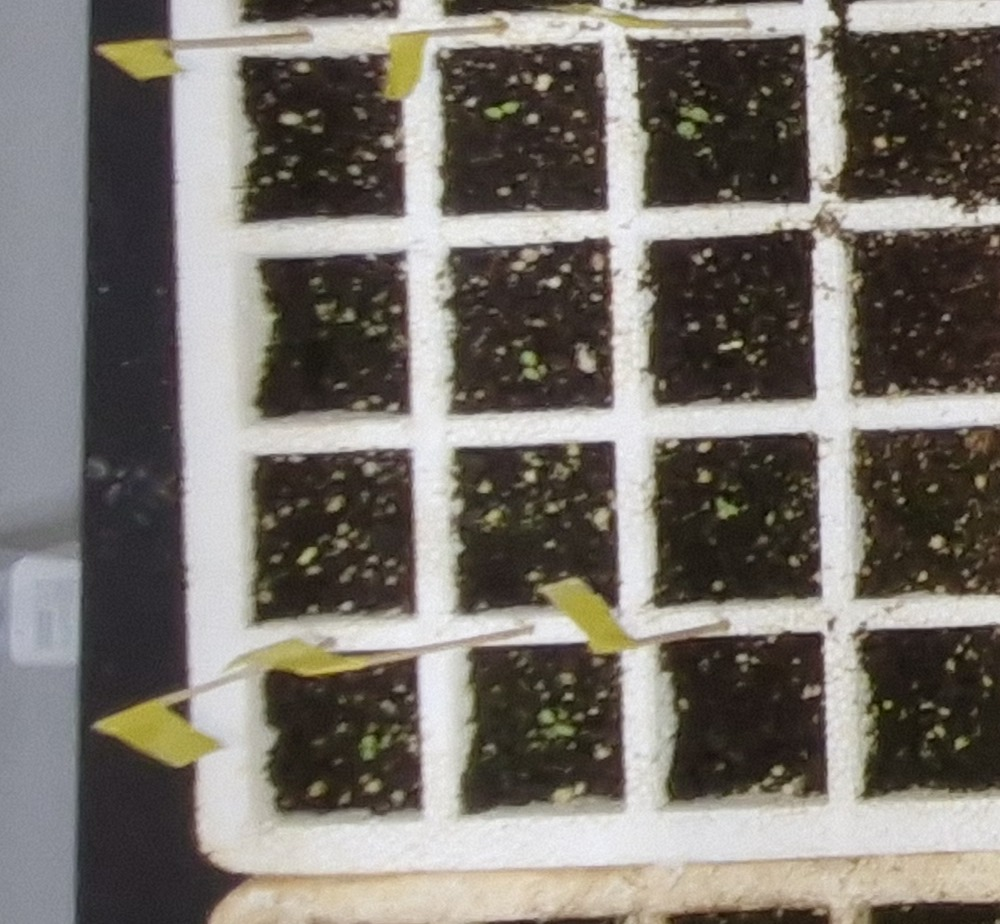Folha: (689, 108, 708, 121), (539, 710, 556, 723), (521, 351, 536, 365), (554, 725, 574, 735), (679, 122, 695, 134), (486, 107, 503, 118), (543, 726, 557, 739), (361, 735, 376, 747), (502, 103, 518, 114), (524, 368, 539, 379), (727, 504, 740, 516), (362, 748, 373, 760), (716, 498, 727, 507)
Germinacao: (537, 709, 576, 740), (676, 107, 711, 137), (520, 350, 540, 379), (484, 102, 519, 118), (361, 736, 382, 760), (716, 497, 739, 515)
